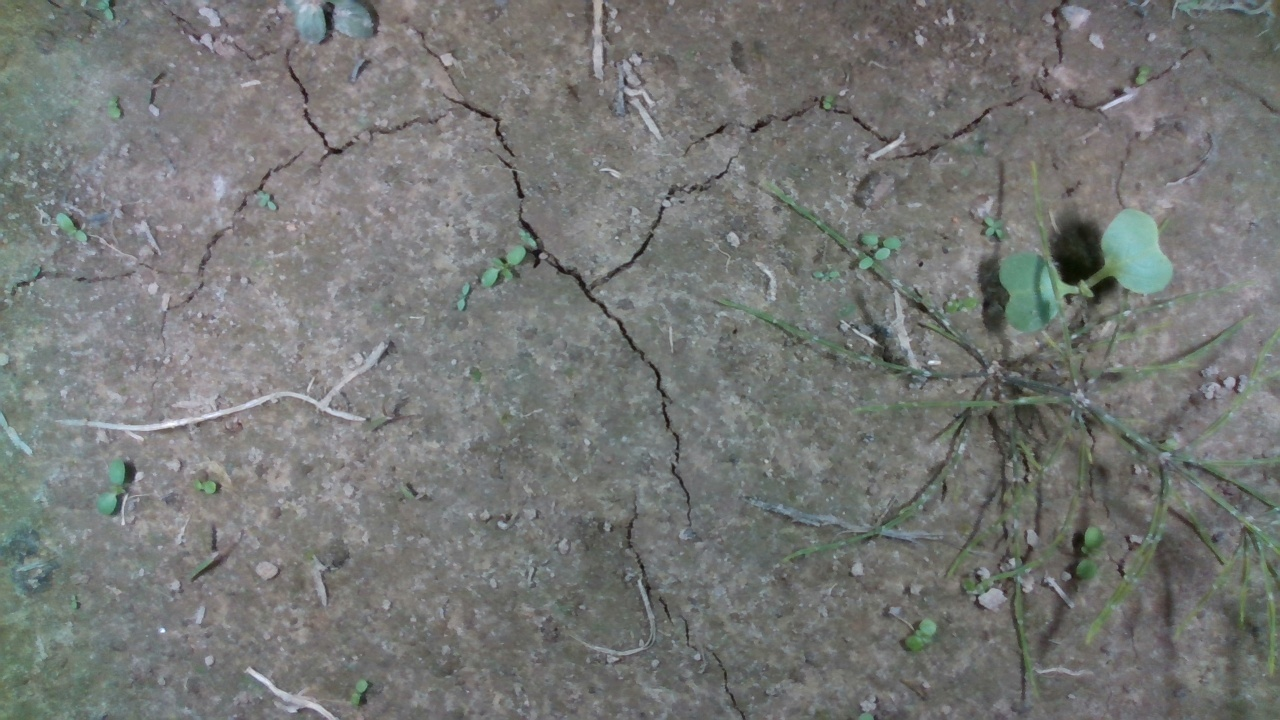weed: (49, 208, 97, 258), (900, 613, 939, 654), (103, 457, 130, 516), (101, 93, 138, 136), (188, 473, 227, 499), (974, 209, 1003, 242), (451, 278, 472, 321), (253, 185, 279, 211)
